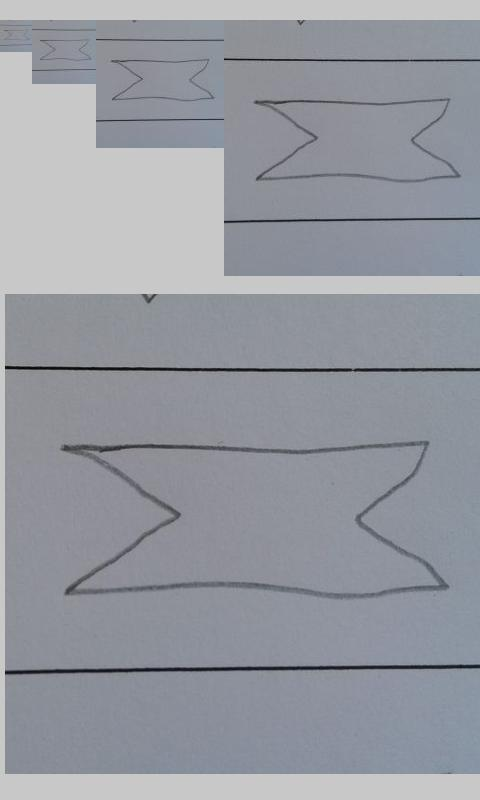edit_text: (59, 436, 447, 600), (252, 97, 459, 184), (109, 58, 215, 102), (39, 39, 92, 62), (3, 29, 29, 41)
